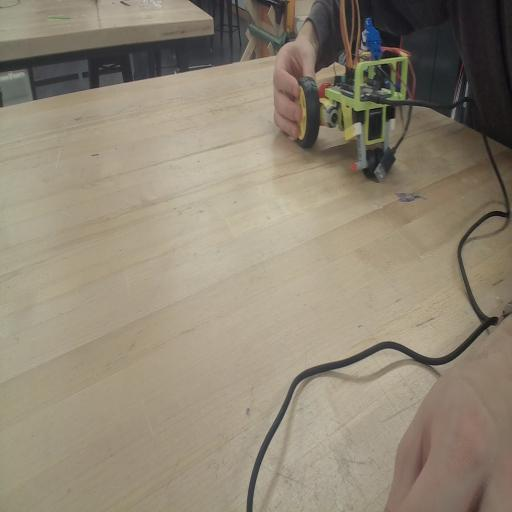blue LEGO minifig: (363, 13, 385, 60)
